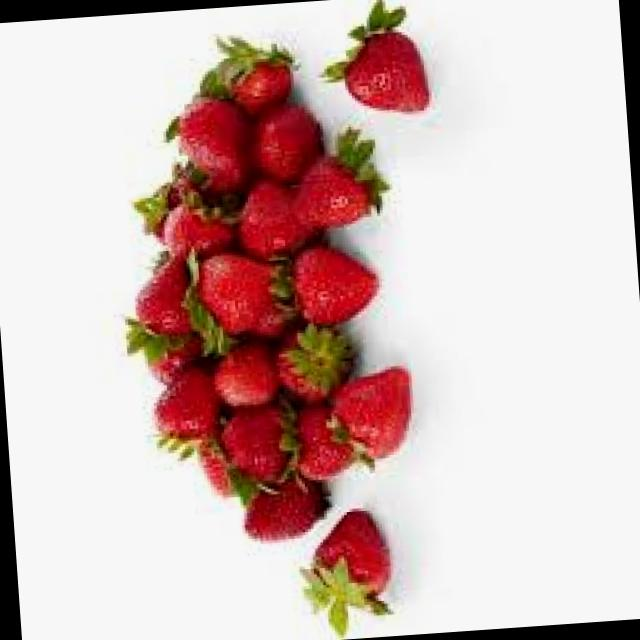tofu: (324, 1, 432, 130), (296, 490, 394, 622), (330, 360, 417, 470), (286, 140, 386, 233), (168, 84, 249, 196), (186, 254, 282, 344), (282, 247, 378, 331), (213, 398, 298, 489), (146, 361, 218, 445)
